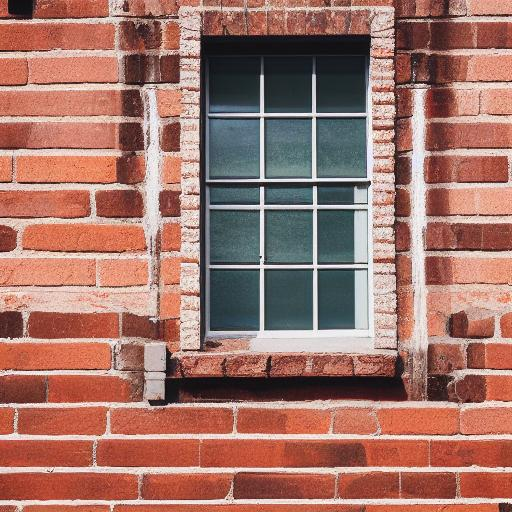Window: (147, 4, 428, 404)
